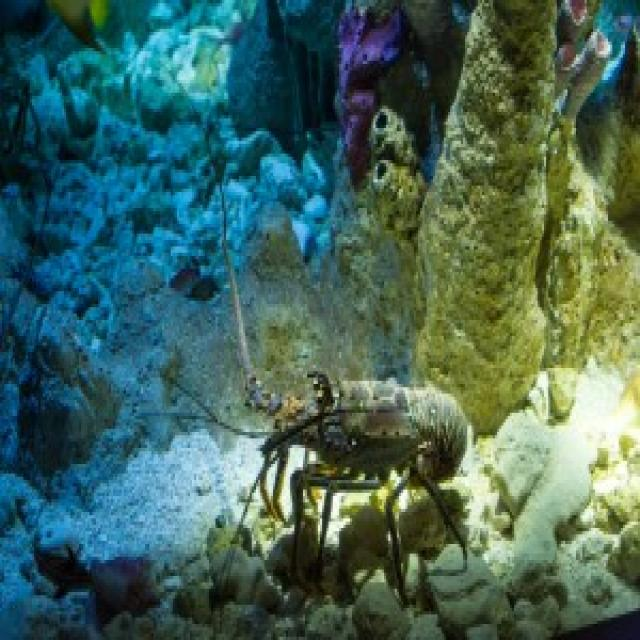lobsters: (149, 224, 511, 640)
